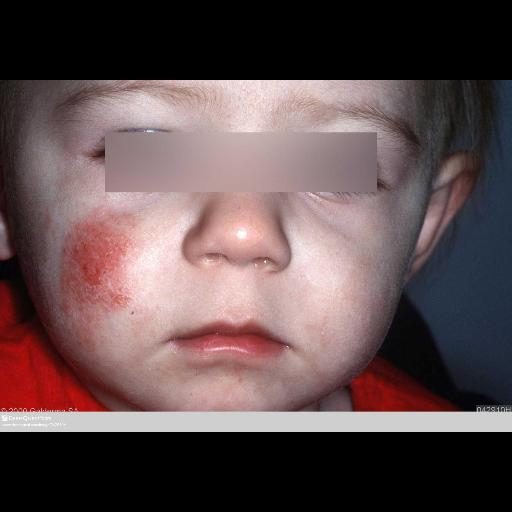Skin_Lesion: (60, 258, 114, 286), (68, 226, 124, 250), (70, 300, 108, 310)
